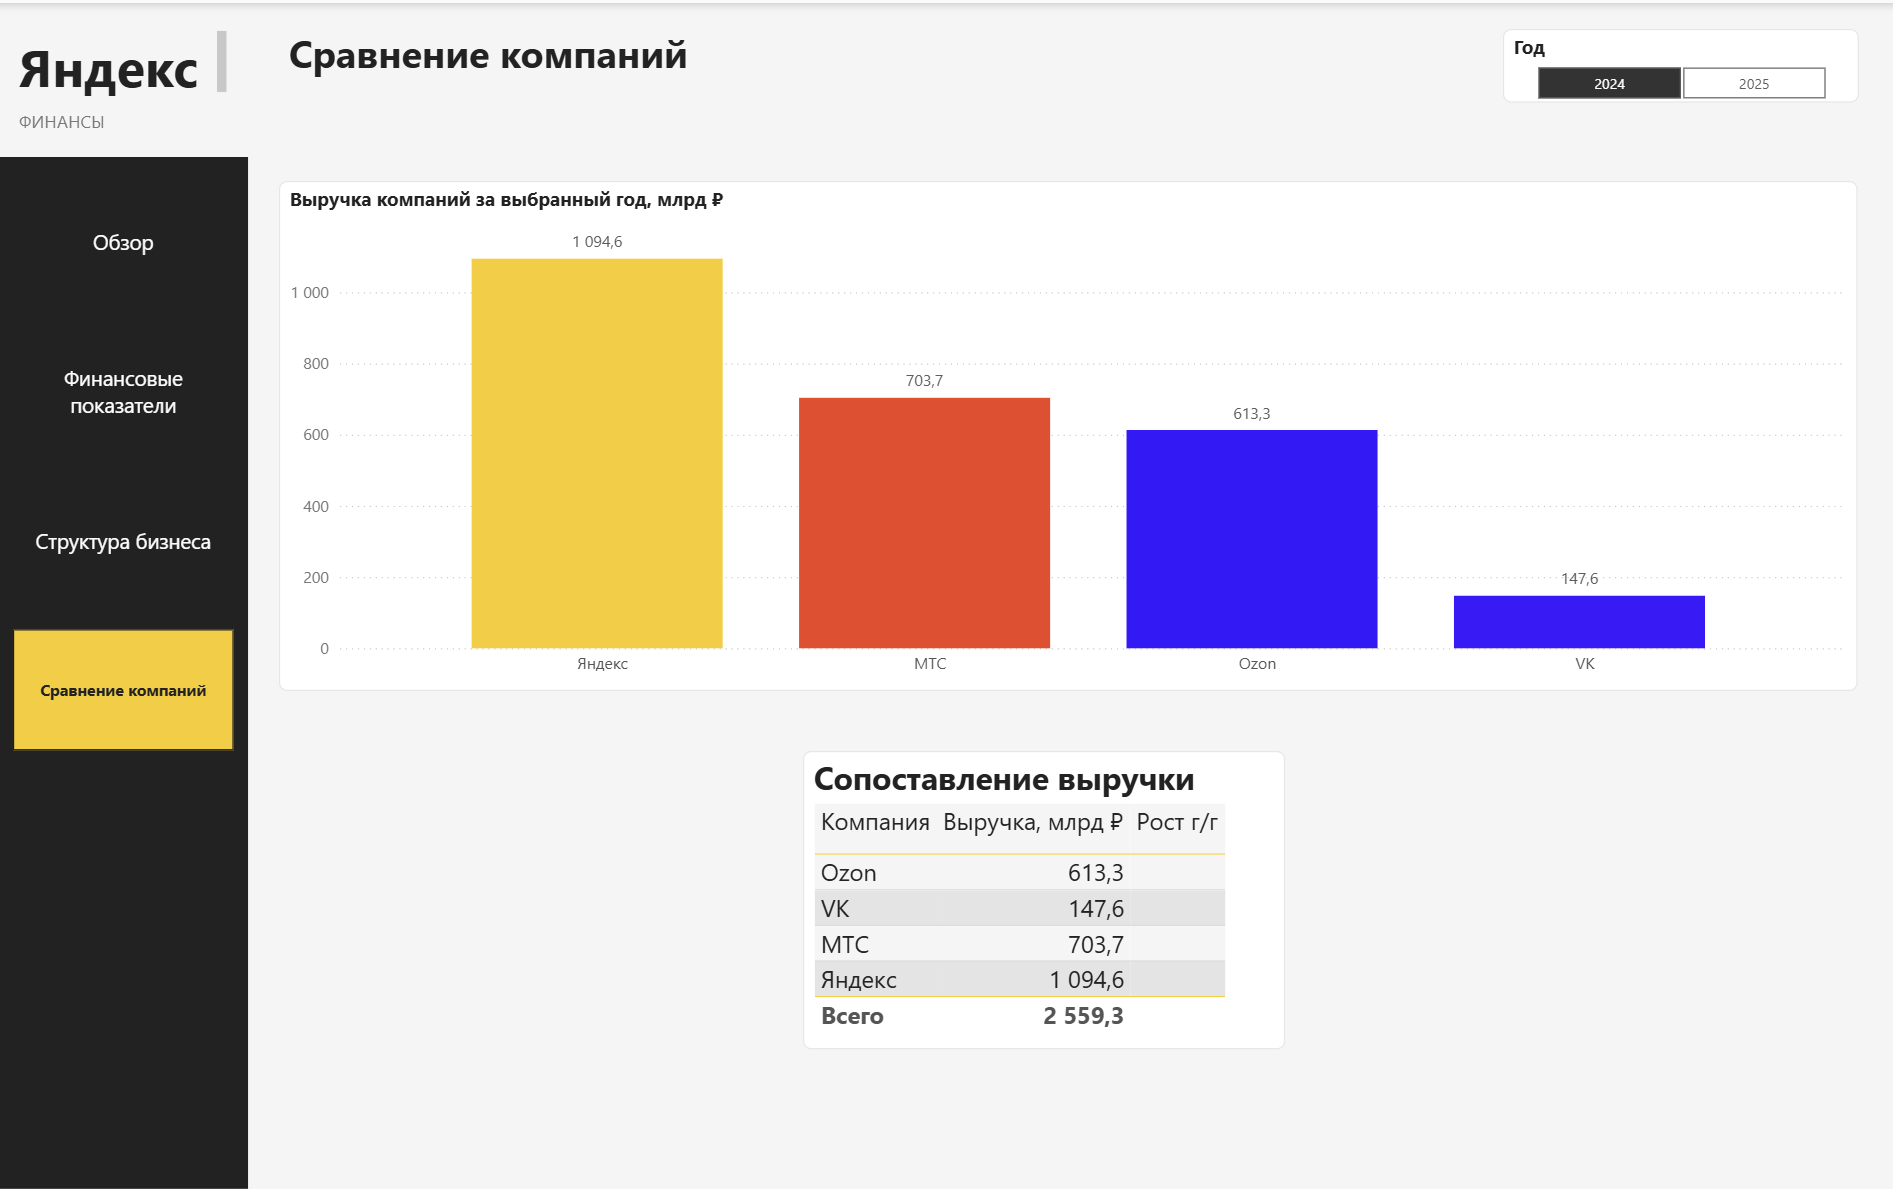

Layout of this report page (visuals, bound fields, positions):
{"tool":"powerbi","page":{"name":"Сравнение компаний","canvas":[1600,1000],"ordinal":3},"visuals":[{"type":"textbox","box":[12,18,185,65],"z":0},{"type":"textbox","box":[12,85,185,30],"z":1000},{"type":"textbox","box":[0,130,210,870],"z":2000},{"type":"textbox","box":[239.5,15.2,989.9,54],"z":3000},{"type":"slicer","title":"Год","fields":{"Values":["Period.Year"]},"box":[1268,22,300,62],"z":5000},{"type":"clusteredColumnChart","title":"Выручка компаний за выбранный год, млрд ₽","fields":{"Category":["Peers.Company"],"Y":["Period.Выручка компании"]},"box":[236.1,150.1,1331,430],"z":6000},{"type":"tableEx","title":"Сопоставление выручки","fields":{"Values":["Peers.Company","Period.Выручка компании","Period.Рост компании"]},"box":[677.9,630.7,406.4,251.3],"z":7000},{"type":"pageNavigator","box":[12,150,186,480],"z":8000}]}

Visuals, with their boxes in screenshot pixels (x1, y1, x2, y2), scaled from the page's 1600x1000 canvas onto the 1893x1189 screenshot:
textbox: 14/21/233/99
textbox: 14/101/233/137
textbox: 0/155/248/1188
textbox: 283/18/1455/82
"Год" slicer: 1500/26/1855/100
"Выручка компаний за выбранный год, млрд ₽" clusteredColumnChart: 279/178/1854/690
"Сопоставление выручки" tableEx: 802/750/1283/1049
pageNavigator: 14/178/234/749
